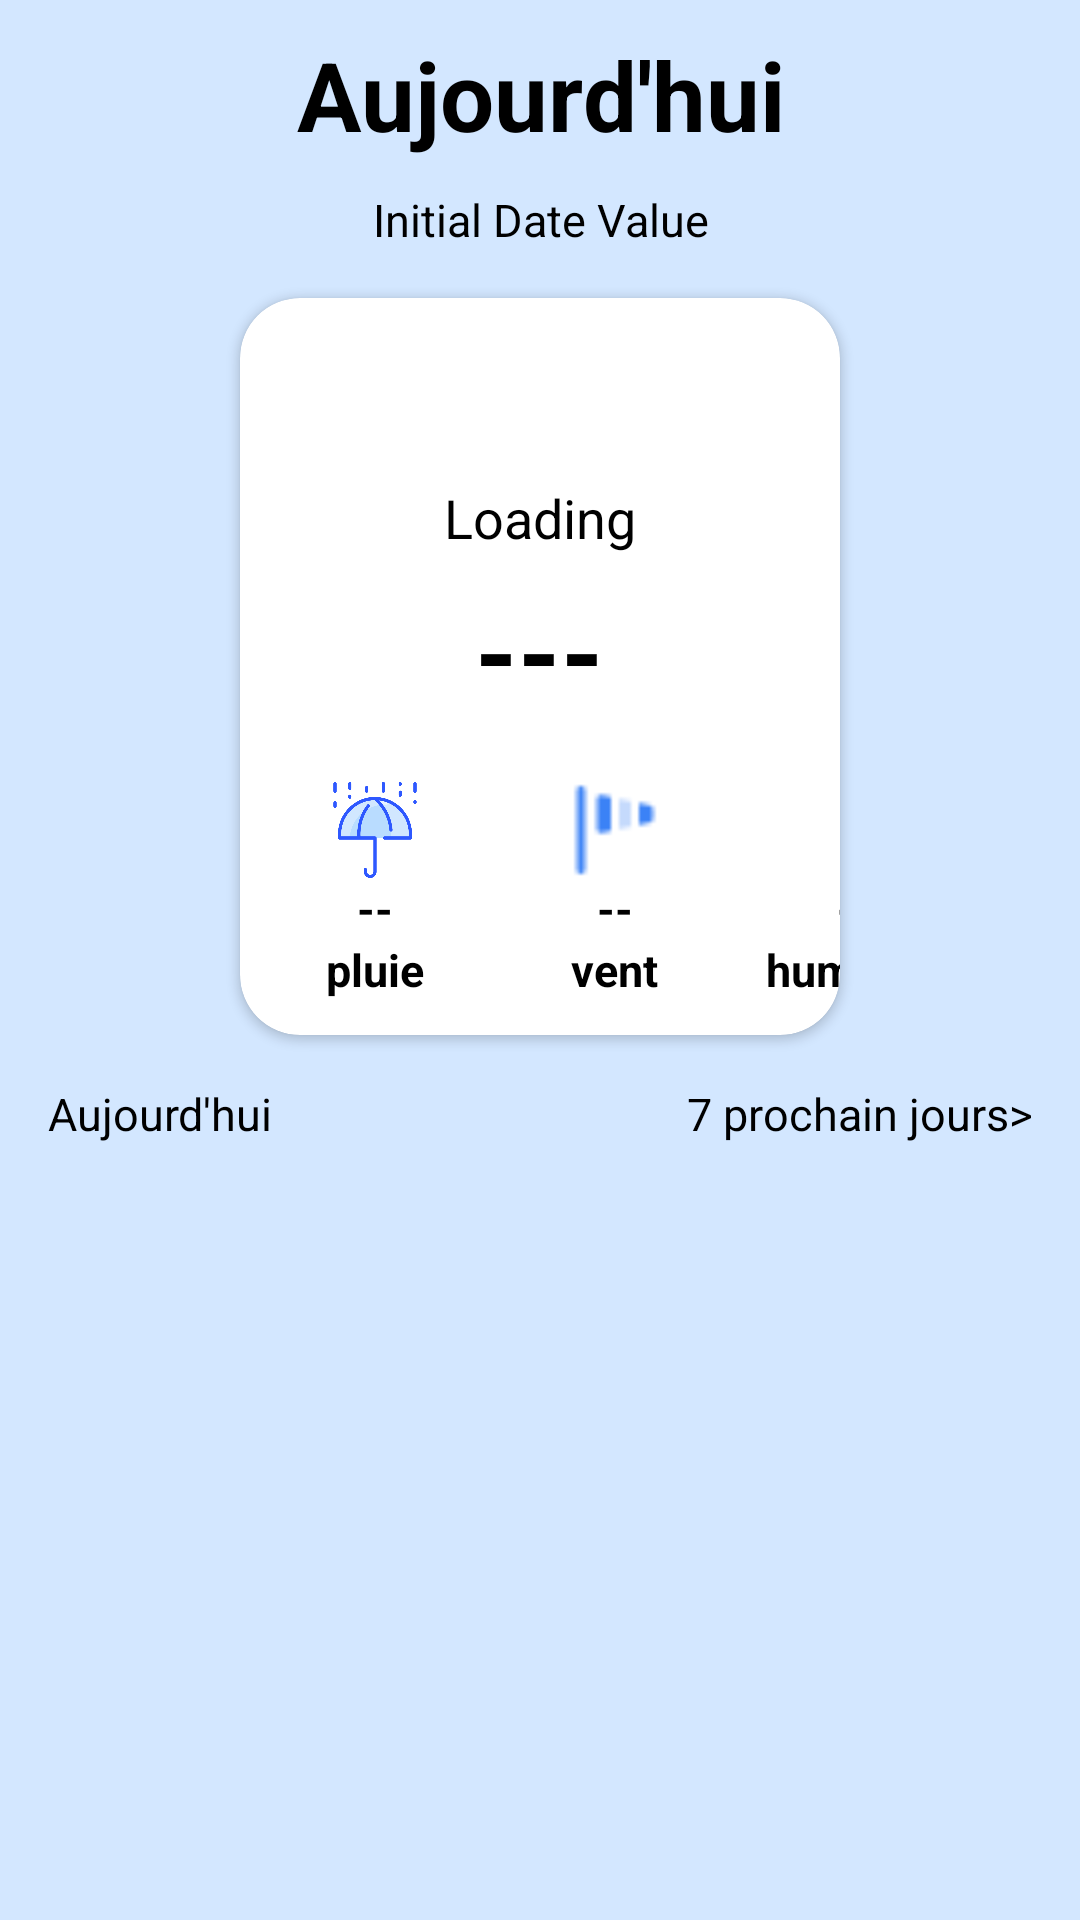

Where to tap for icons on this 1080px x 1920px app screen, as (x,y):
umbrella: (375,830)
